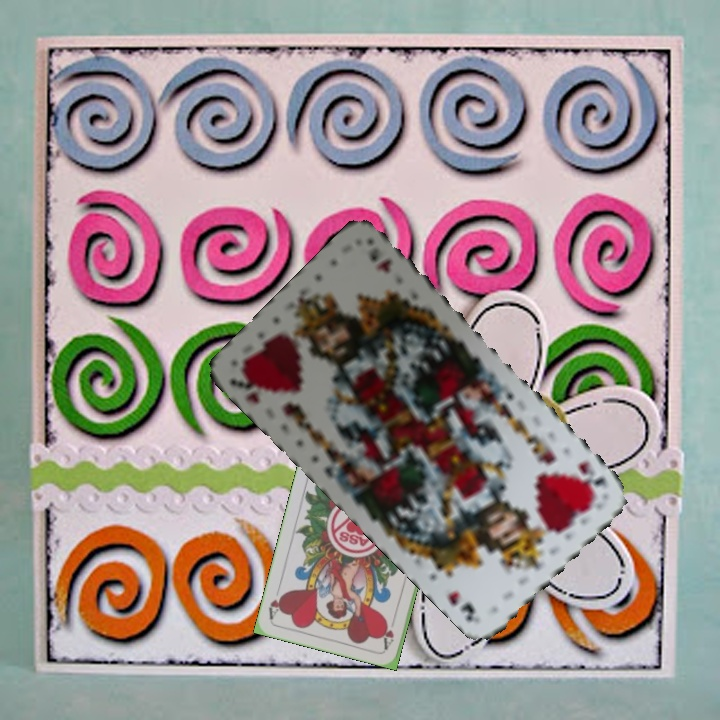HA: (379, 611, 398, 651)
HK: (225, 364, 270, 406), (573, 457, 611, 491)
